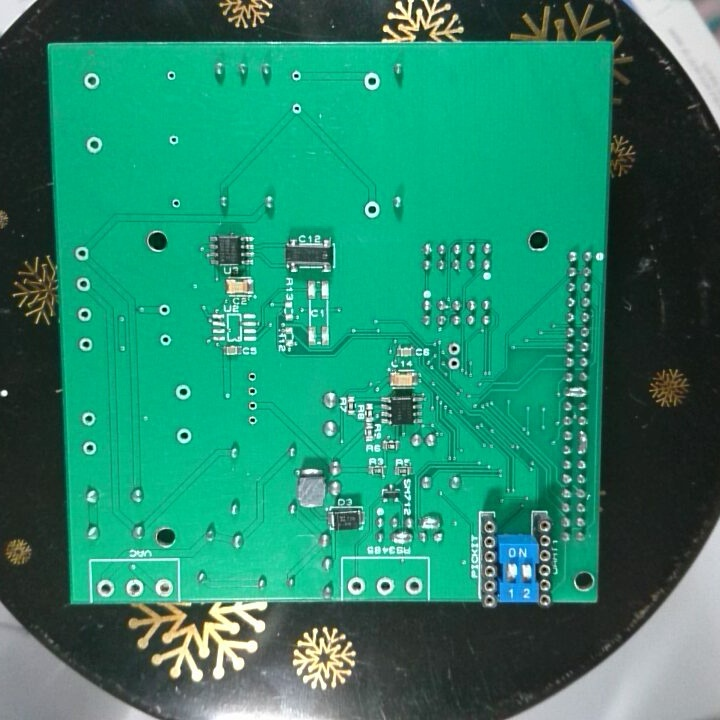F: (82, 133, 106, 156), (122, 575, 146, 598), (151, 576, 175, 598), (94, 576, 117, 598), (80, 69, 101, 92), (172, 381, 193, 404), (345, 575, 368, 596), (374, 575, 397, 596), (361, 198, 382, 220), (173, 424, 194, 445), (361, 69, 380, 92), (71, 242, 91, 263), (74, 303, 94, 324), (74, 335, 95, 355), (73, 273, 92, 295), (404, 575, 423, 597), (79, 409, 97, 429), (156, 329, 173, 349), (155, 300, 173, 318), (288, 98, 305, 116), (80, 438, 96, 457), (445, 355, 462, 372), (289, 67, 306, 83), (446, 339, 462, 356), (169, 194, 184, 212), (163, 67, 179, 83), (245, 398, 261, 414), (245, 412, 260, 428), (165, 132, 181, 146), (245, 383, 259, 398), (244, 370, 260, 383)
P: (389, 529, 417, 547), (418, 512, 444, 530), (575, 430, 590, 458), (562, 384, 587, 400)
